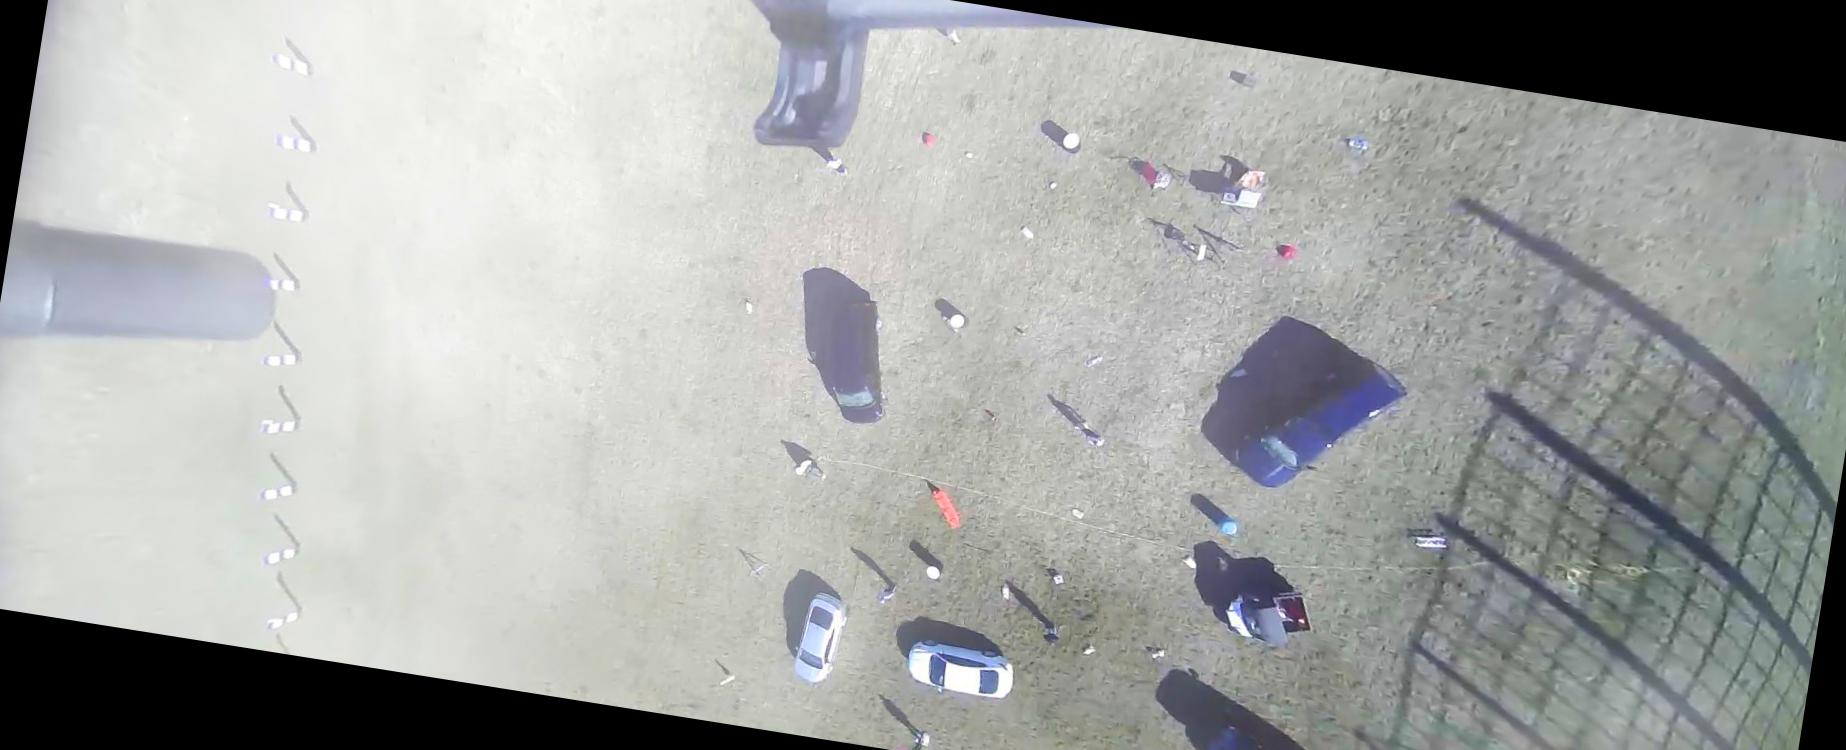vehicle: (1226, 339, 1410, 506), (815, 294, 904, 427), (1174, 699, 1366, 749), (903, 637, 1018, 704), (1222, 580, 1320, 653), (790, 589, 851, 686)
